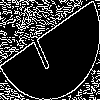I: (25, 25, 52, 71)
